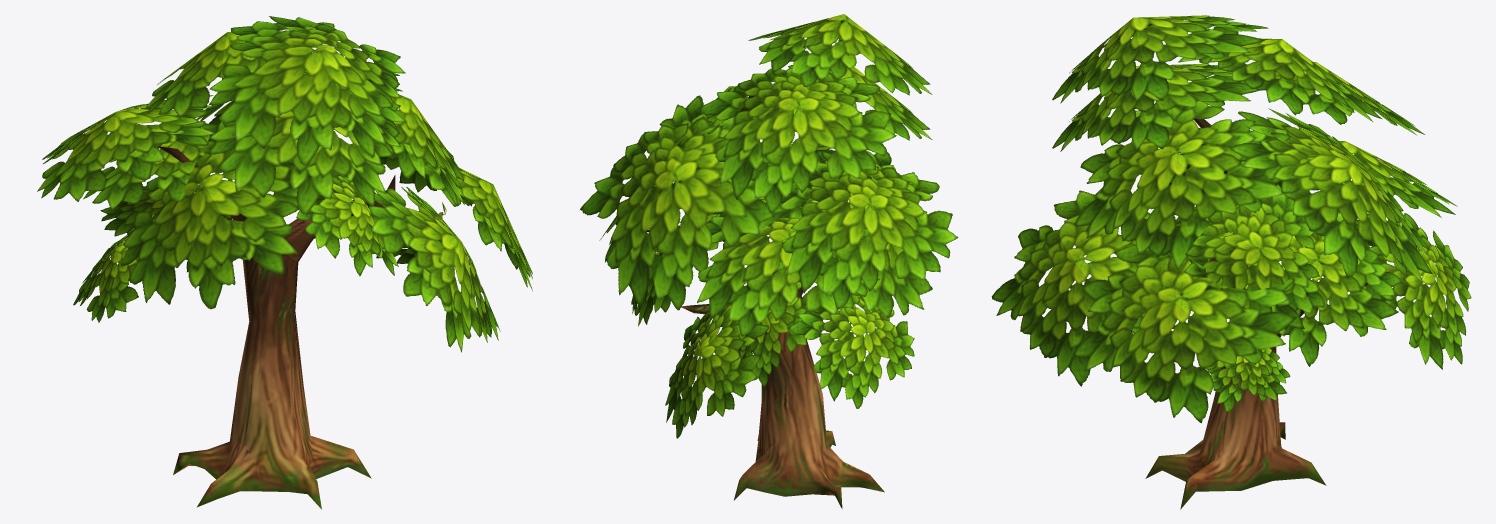
Rendered from Shu01.FBX.
3 renders of one model, left to right at view 1: azimuth 30°, elevation 25°; view 2: azimuth 150°, elevation 25°; view 3: azimuth 270°, elevation 25°, orthographic. The views are drawn at different scales.
Visible parts, largest first — view 1: shu01; view 2: shu01; view 3: shu01.
Boxes of the visible parts, <box> form: shu01: <box>37,16,532,509</box>; shu01: <box>580,14,958,508</box>; shu01: <box>991,15,1471,509</box>.
Bounding box in the file's own units: 218 × 225 × 218.
